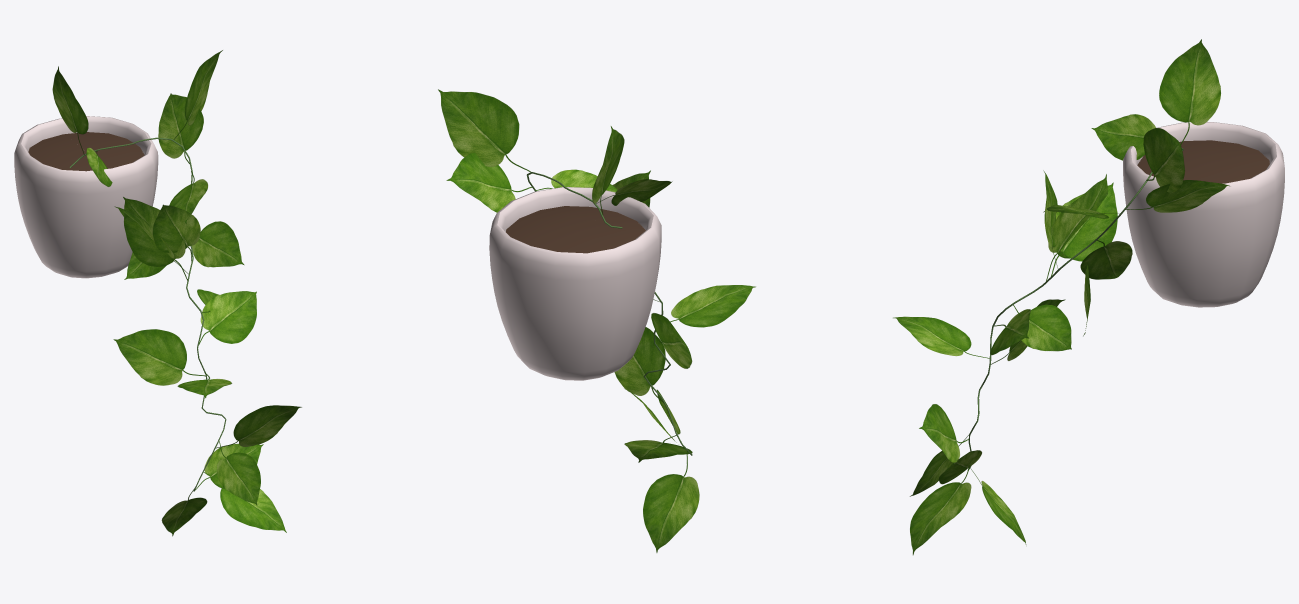
The model's file is Pothos.glb.
The picture shows the model from 3 angles, left to right: view 1: azimuth 30°, elevation 25°; view 2: azimuth 150°, elevation 25°; view 3: azimuth 270°, elevation 25°; orthographic projection. The views are drawn at different scales.
Parts seen in each view (by area): view 1: Pothos; view 2: Pothos; view 3: Pothos.
Boxes of the visible parts, <box> form: Pothos: <box>14,50,301,536</box>; Pothos: <box>438,89,755,552</box>; Pothos: <box>893,39,1284,555</box>.
Size of the model in its own units: 0.2292 by 0.4384 by 0.3183.
3 materials, 2 textured.
